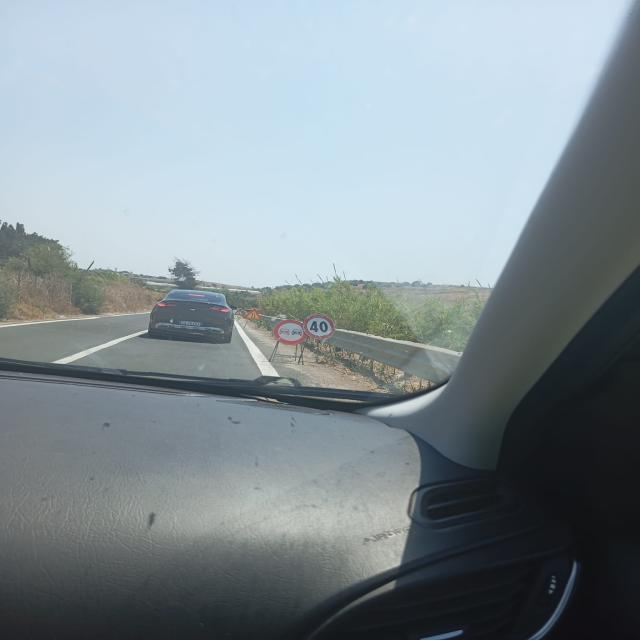forb_overtake: (273, 320, 308, 345)
forb_speed_over_40: (303, 314, 336, 340)
